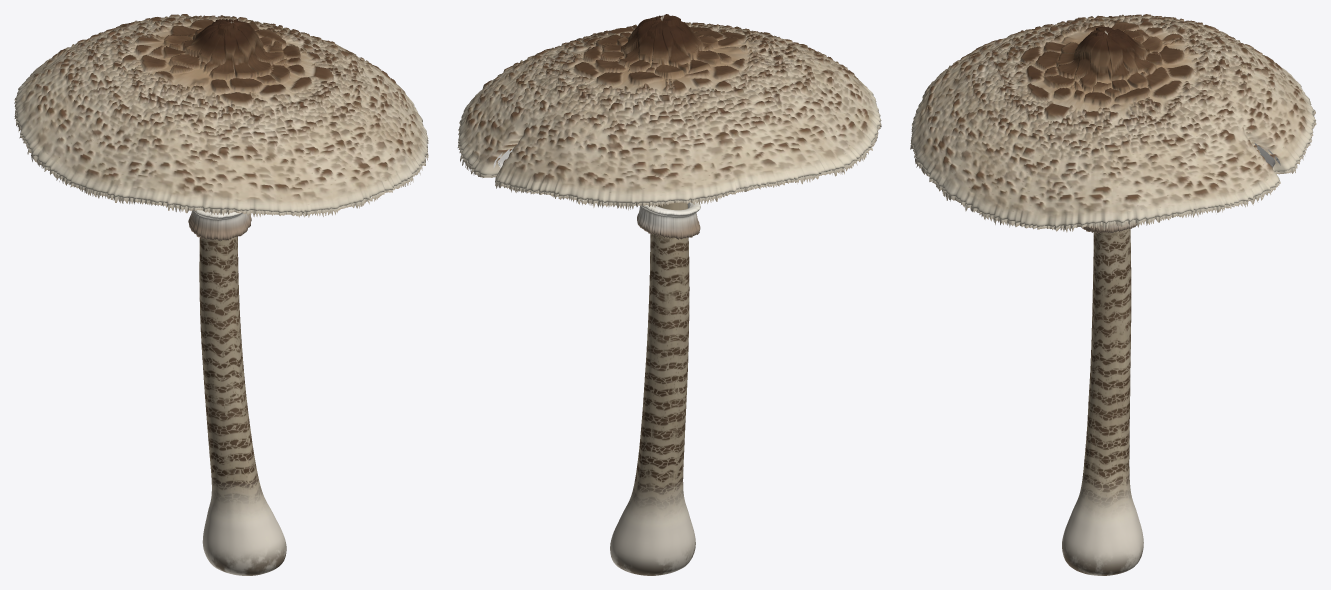
The model's file is macrolepiota-procera.glb.
The picture shows the model from 3 angles, left to right: view 1: azimuth 30°, elevation 25°; view 2: azimuth 150°, elevation 25°; view 3: azimuth 270°, elevation 25°; orthographic projection. The views are drawn at different scales.
Visible parts, largest first — view 1: cap, stem, fringe, ring; view 2: cap, stem, fringe, ring; view 3: cap, stem, fringe.
Part boxes in pixels (left/top/right/bottom): cap: left=14, top=14, right=428, bottom=213; stem: left=199, top=211, right=286, bottom=575; fringe: left=14, top=95, right=428, bottom=217; ring: left=188, top=210, right=251, bottom=240; cap: left=458, top=14, right=881, bottom=204; stem: left=610, top=202, right=695, bottom=575; fringe: left=457, top=104, right=881, bottom=210; ring: left=637, top=201, right=700, bottom=239; cap: left=911, top=14, right=1315, bottom=227; stem: left=1062, top=228, right=1143, bottom=575; fringe: left=910, top=102, right=1316, bottom=232.
Size of the model in its own units: 0.2116 by 0.3052 by 0.2117.
Materials: 5 (5 with a texture image).
